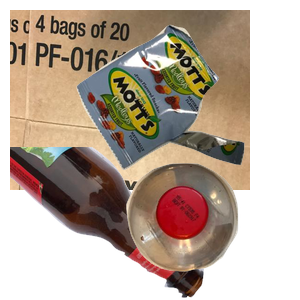cardboard: (10, 10, 250, 190)
glass: (10, 147, 207, 300)
plastic: (124, 161, 300, 300)
trash: (74, 22, 300, 185)
